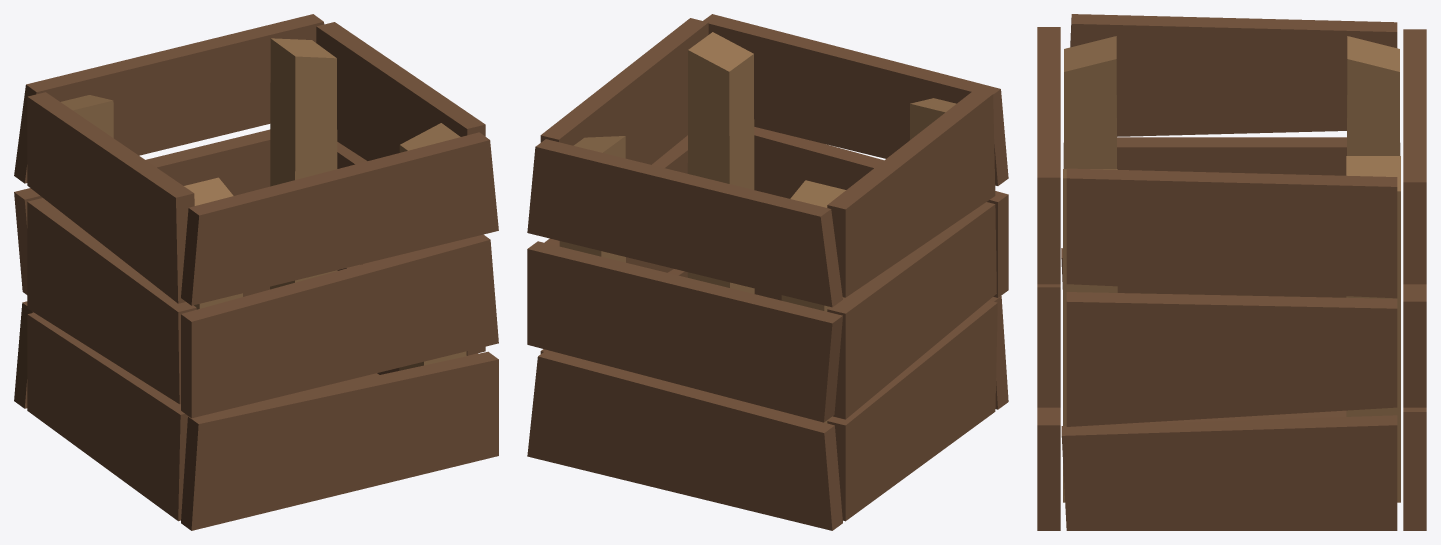
File: Box_2_Brown.fbx
3 renders of one model, left to right at view 1: azimuth 30°, elevation 25°; view 2: azimuth 150°, elevation 25°; view 3: azimuth 270°, elevation 25°, orthographic. The views are drawn at different scales.
Parts seen in each view (by area): view 1: Box_2_Brown_Part_1, Box_2_Brown_Part_2; view 2: Box_2_Brown_Part_1, Box_2_Brown_Part_2; view 3: Box_2_Brown_Part_1, Box_2_Brown_Part_2.
Part boxes in pixels (x1,y1,x2,y2): Box_2_Brown_Part_1: (14, 14, 498, 530); Box_2_Brown_Part_2: (61, 38, 466, 370); Box_2_Brown_Part_1: (527, 14, 1008, 530); Box_2_Brown_Part_2: (559, 32, 956, 423); Box_2_Brown_Part_1: (1037, 14, 1426, 530); Box_2_Brown_Part_2: (1063, 36, 1400, 502).
Bounding box in the file's own units: 100 × 100 × 100.
